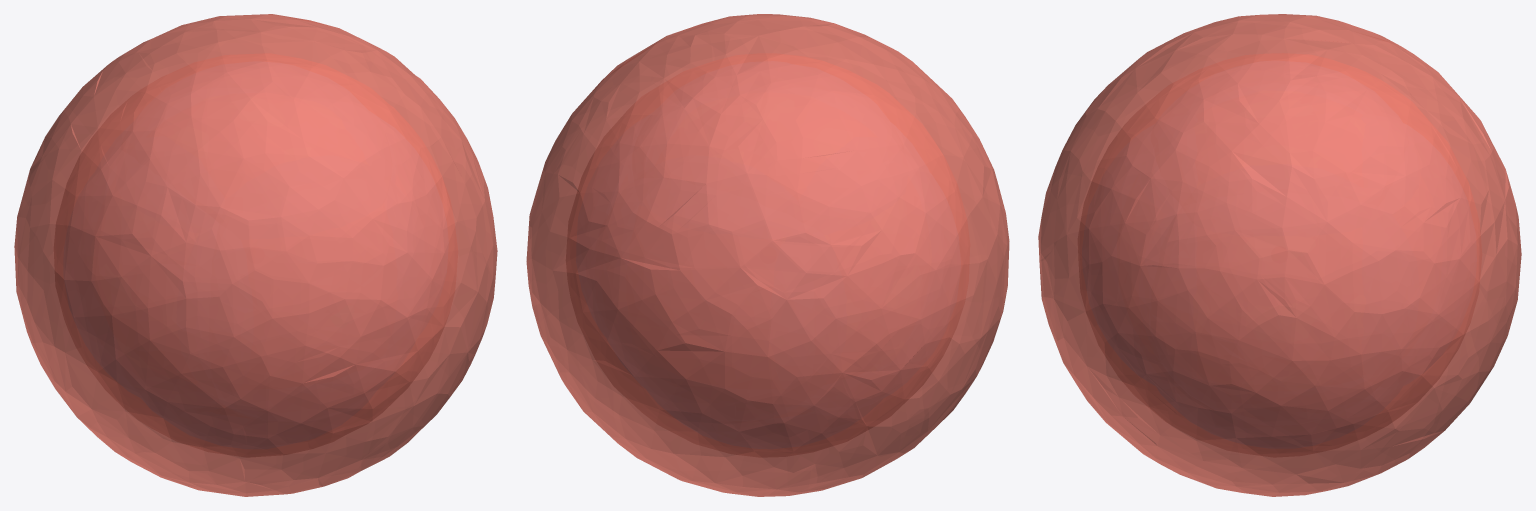
Rendered from orbital.glb.
3 renders of one model, left to right at view 1: azimuth 30°, elevation 25°; view 2: azimuth 150°, elevation 25°; view 3: azimuth 270°, elevation 25°, orthographic.
Visible parts, largest first — view 1: Nd_n6_s_ml0_node, Nd_n5_s_ml0_node; view 2: Nd_n6_s_ml0_node, Nd_n5_s_ml0_node; view 3: Nd_n6_s_ml0_node, Nd_n5_s_ml0_node.
Boxes of the visible parts, <box> form: Nd_n6_s_ml0_node: <box>14,14,497,496</box>; Nd_n5_s_ml0_node: <box>54,53,457,457</box>; Nd_n6_s_ml0_node: <box>526,14,1009,496</box>; Nd_n5_s_ml0_node: <box>566,53,969,457</box>; Nd_n6_s_ml0_node: <box>1038,14,1521,496</box>; Nd_n5_s_ml0_node: <box>1078,53,1481,457</box>.
Bounding box in the file's own units: 3.06 × 3.06 × 3.06.
